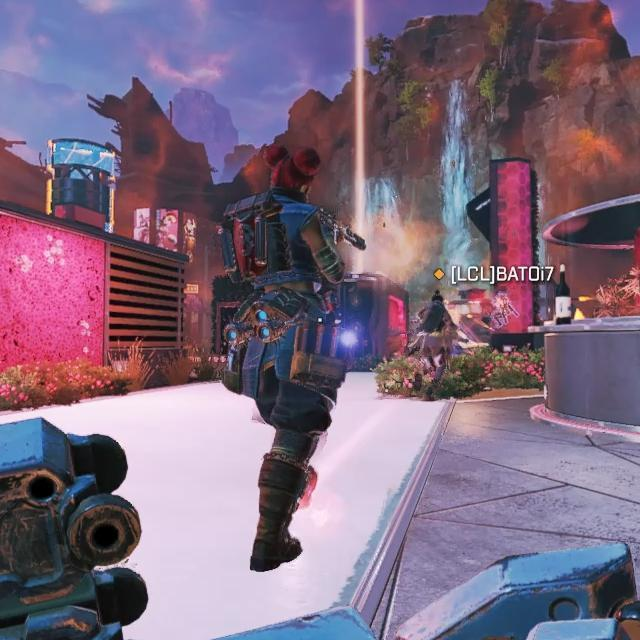avatar: (212, 139, 351, 575)
